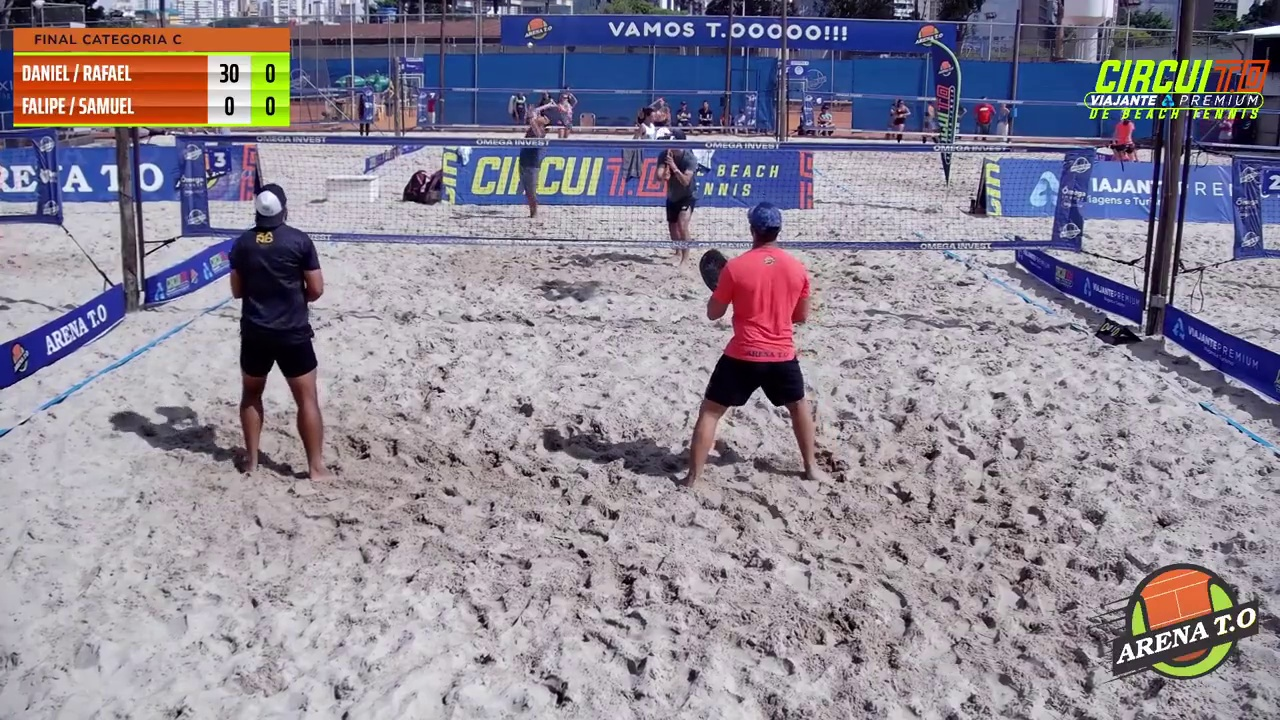court_line: (641, 0, 787, 460)
